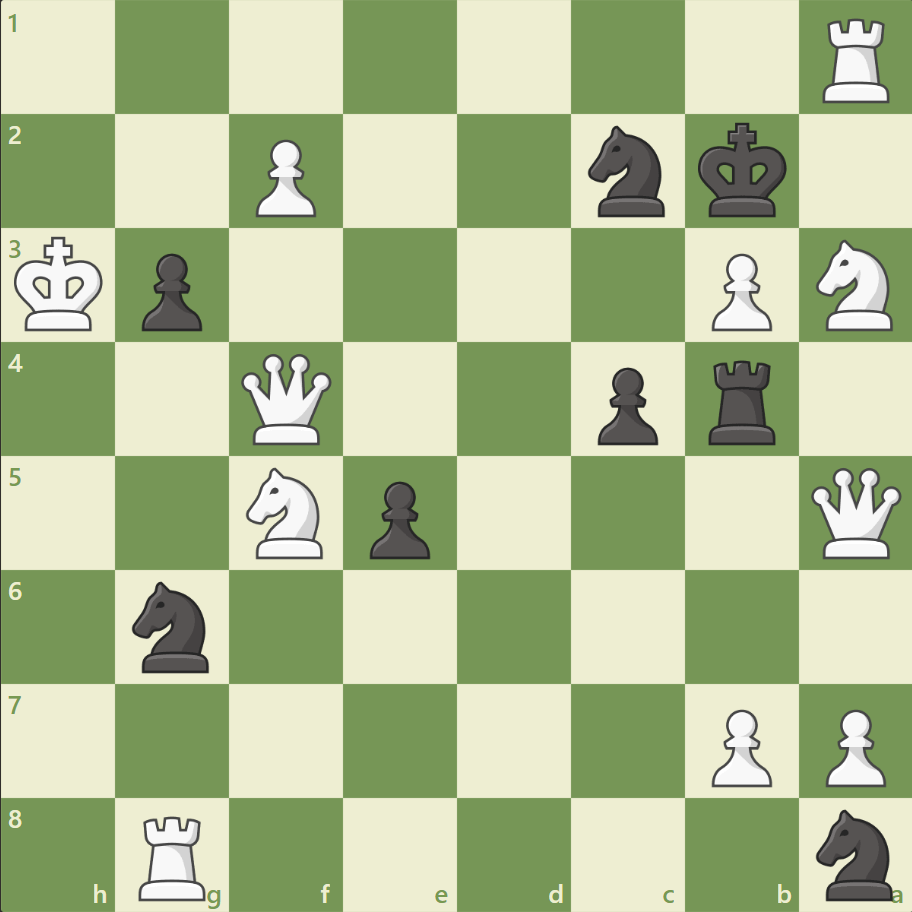K: (11, 231, 111, 339)
N: (238, 461, 335, 564), (806, 234, 903, 337)
P: (701, 700, 776, 791), (701, 246, 776, 337), (247, 132, 322, 223), (815, 700, 889, 791)
Q: (237, 349, 336, 449), (805, 463, 904, 562)
R: (814, 12, 897, 109), (133, 806, 215, 904)
k: (692, 117, 792, 225)
n: (124, 575, 222, 677), (806, 802, 903, 904), (579, 121, 676, 223)
p: (133, 246, 208, 337), (361, 473, 435, 564), (588, 359, 662, 450)
r: (700, 352, 783, 449)
